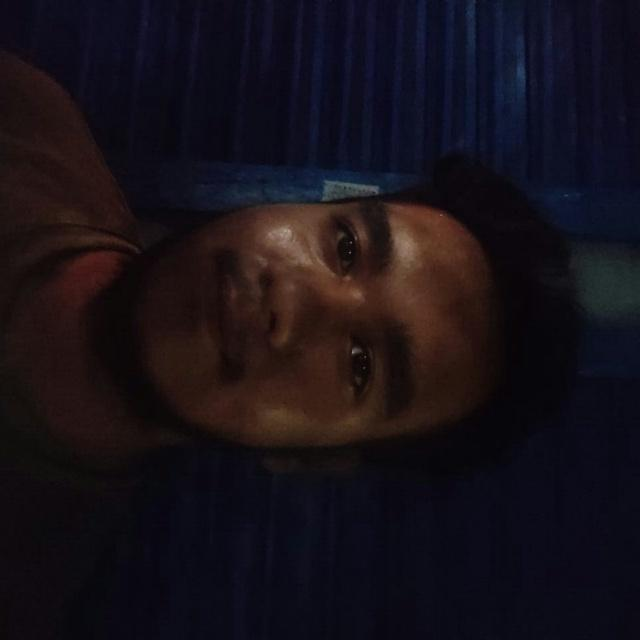Natural: (106, 129, 560, 556)
